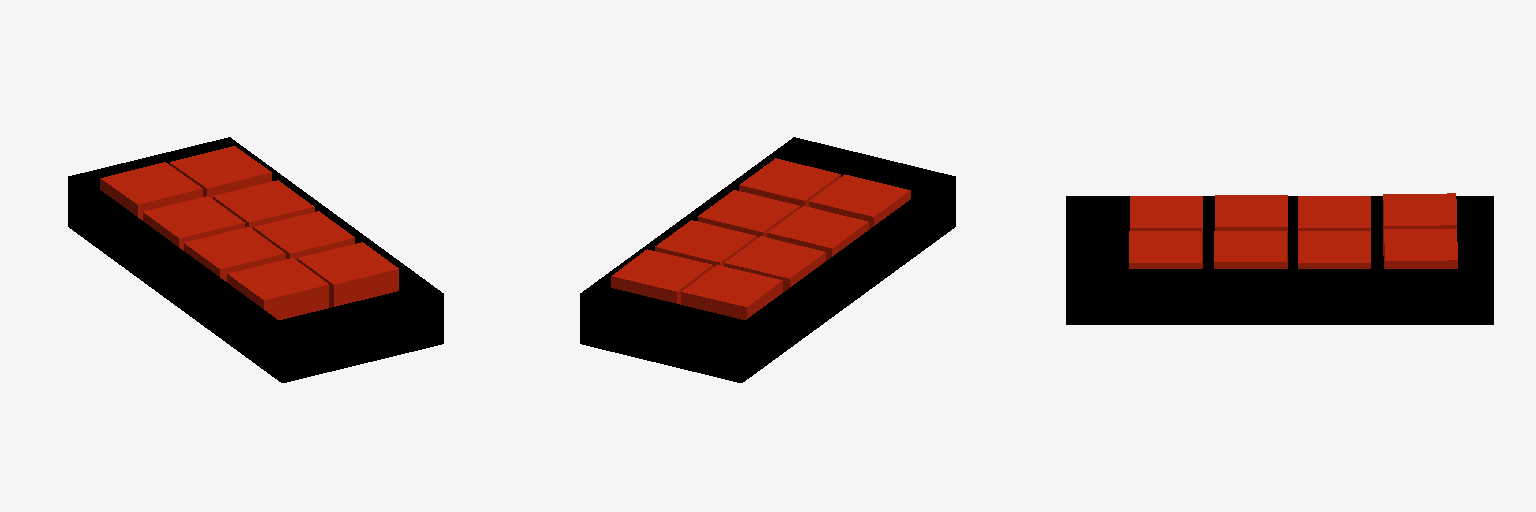
Rendered from BOLEN.obj.
3 views of the same model, side by side, from view 1: azimuth 30°, elevation 25°; view 2: azimuth 150°, elevation 25°; view 3: azimuth 270°, elevation 25° (orthographic).
Parts seen in each view (by area): view 1: Cube, Cube.002, Cube.001, Cube.008, Cube.004, Cube.007, Cube.006, Cube.003, Cube.005; view 2: Cube, Cube.008, Cube.007, Cube.002, Cube.004, Cube.006, Cube.001, Cube.003, Cube.005; view 3: Cube, Cube.007, Cube.001, Cube.003, Cube.005, Cube.004, Cube.008, Cube.002, Cube.006.
Boxes of the visible parts, x1=… form: Cube: x1=68, y1=137, x2=443, y2=382; Cube.002: x1=227, y1=258, x2=328, y2=319; Cube.001: x1=297, y1=242, x2=398, y2=307; Cube.008: x1=100, y1=162, x2=202, y2=220; Cube.004: x1=184, y1=227, x2=285, y2=281; Cube.007: x1=170, y1=146, x2=271, y2=198; Cube.006: x1=143, y1=196, x2=244, y2=250; Cube.003: x1=253, y1=211, x2=354, y2=259; Cube.005: x1=213, y1=180, x2=314, y2=228; Cube: x1=580, y1=137, x2=955, y2=382; Cube.008: x1=681, y1=265, x2=782, y2=319; Cube.007: x1=611, y1=249, x2=712, y2=304; Cube.002: x1=809, y1=174, x2=910, y2=229; Cube.004: x1=767, y1=206, x2=868, y2=260; Cube.006: x1=724, y1=236, x2=825, y2=291; Cube.001: x1=739, y1=158, x2=840, y2=207; Cube.003: x1=698, y1=190, x2=799, y2=237; Cube.005: x1=655, y1=220, x2=756, y2=266; Cube: x1=1066, y1=196, x2=1493, y2=324; Cube.007: x1=1384, y1=228, x2=1457, y2=268; Cube.001: x1=1129, y1=231, x2=1201, y2=268; Cube.003: x1=1214, y1=231, x2=1286, y2=268; Cube.005: x1=1298, y1=231, x2=1370, y2=268; Cube.004: x1=1215, y1=195, x2=1287, y2=268; Cube.008: x1=1383, y1=193, x2=1456, y2=255; Cube.002: x1=1130, y1=196, x2=1202, y2=268; Cube.006: x1=1298, y1=196, x2=1370, y2=230.
Bounding box in the file's own units: 0.5891 × 0.2064 × 1.35.